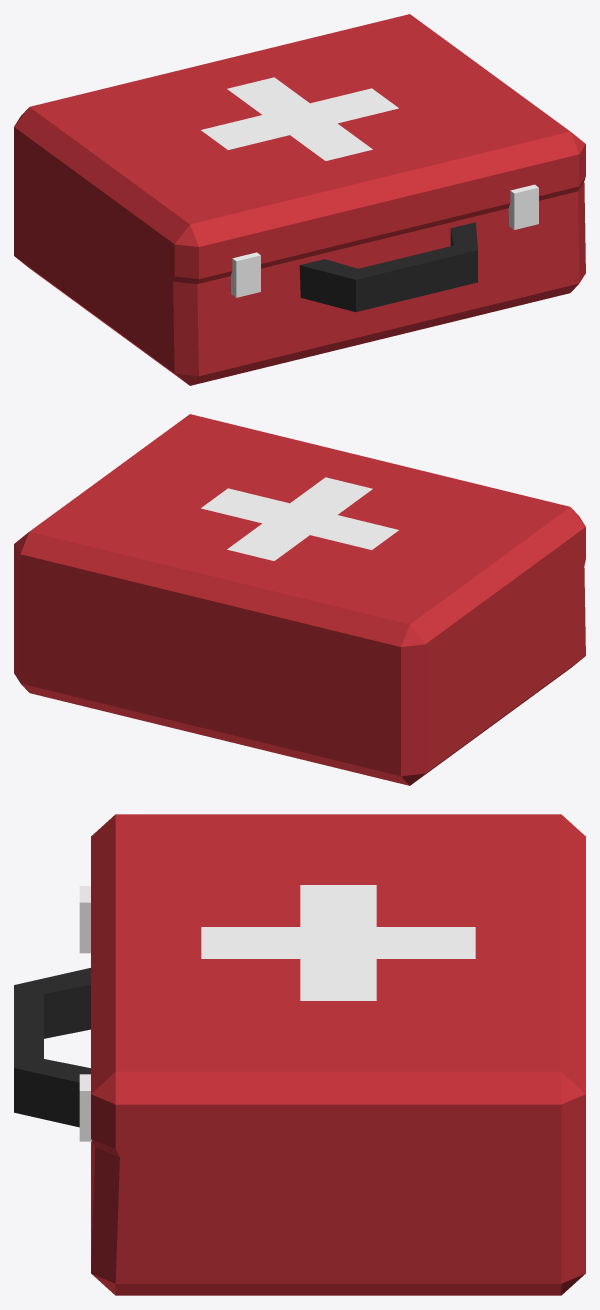
The model's file is survival_medkit.fbx.
3 views of the same model, one above another, from view 1: azimuth 30°, elevation 25°; view 2: azimuth 150°, elevation 25°; view 3: azimuth 270°, elevation 25° (orthographic). The views are drawn at different scales.
Parts seen in each view (by area): view 1: survival_medkit; view 2: survival_medkit; view 3: survival_medkit.
Part boxes in pixels (x1,y1,x2,y2): survival_medkit: (14, 14, 585, 385); survival_medkit: (14, 414, 585, 785); survival_medkit: (14, 814, 585, 1295).
Bounding box in the file's own units: 200 × 75.03 × 174.
